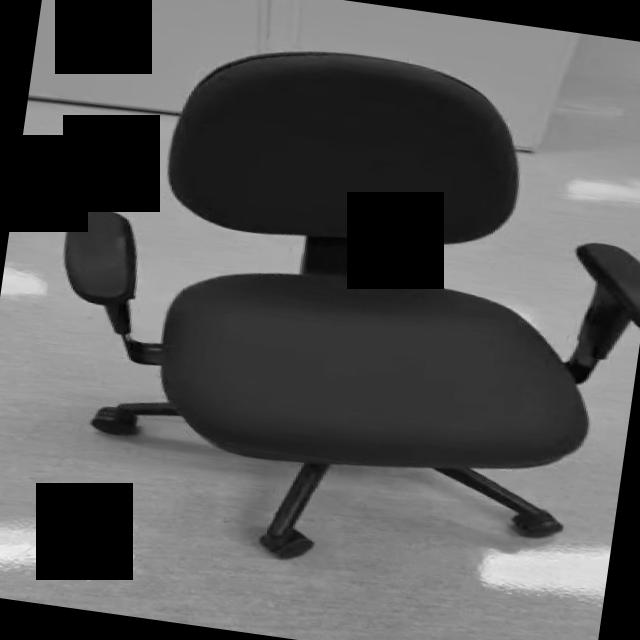cadeira-azul: (27, 17, 640, 602)
